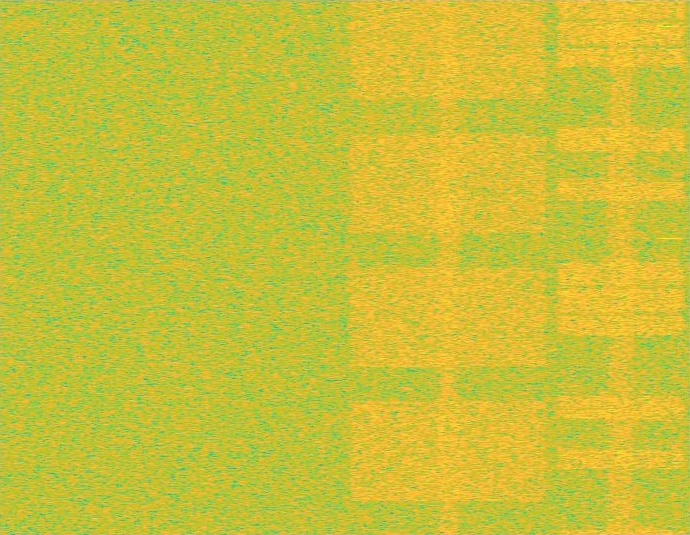5G: (345, 0, 552, 534)
DSSS: (605, 0, 637, 534), (435, 0, 462, 534)
LTE: (552, 0, 689, 534)
Radar: (662, 0, 675, 534)
